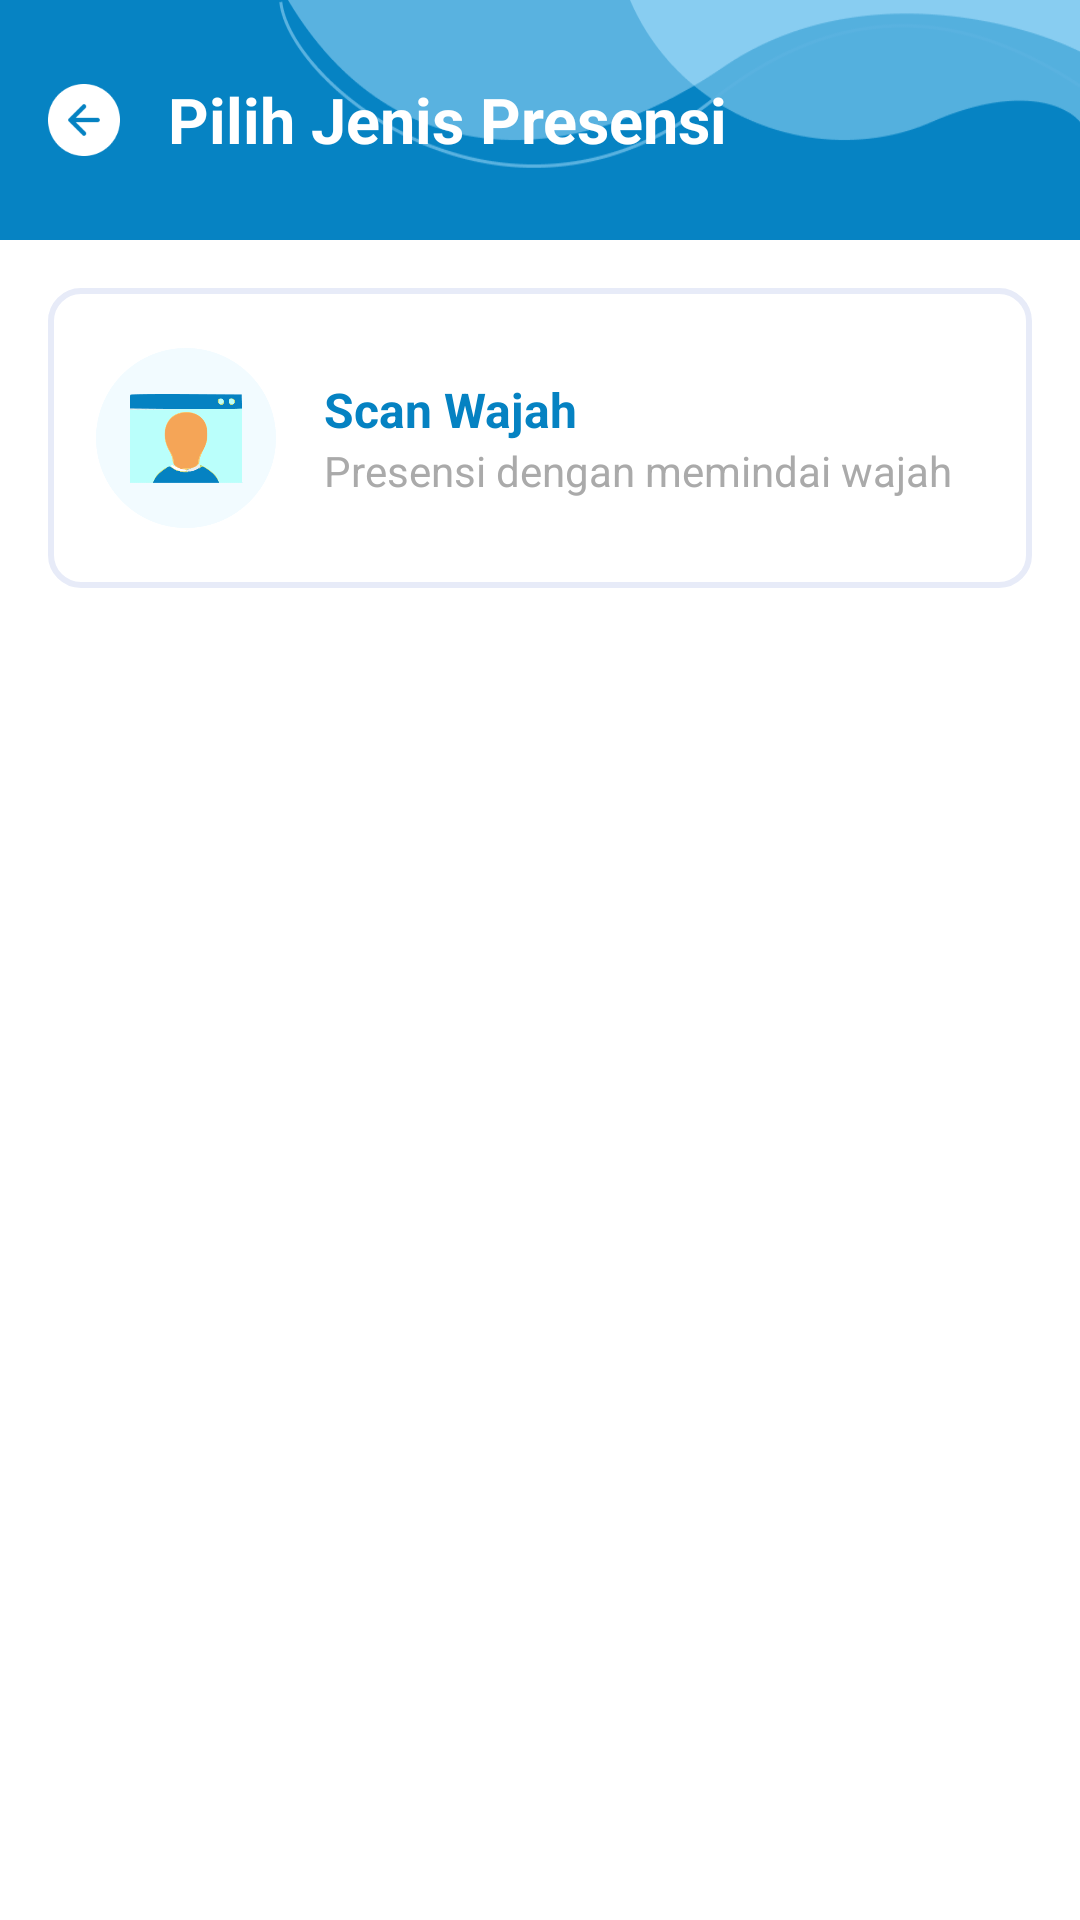

Icon click points for this 1080×1920 phone screenshot, format point (x, y):
absen scan: point (186, 438)
back: point (84, 120)
